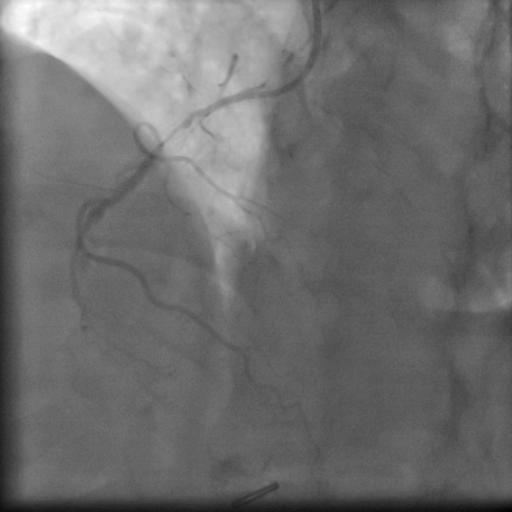Stenosis: (154, 117, 195, 149)
